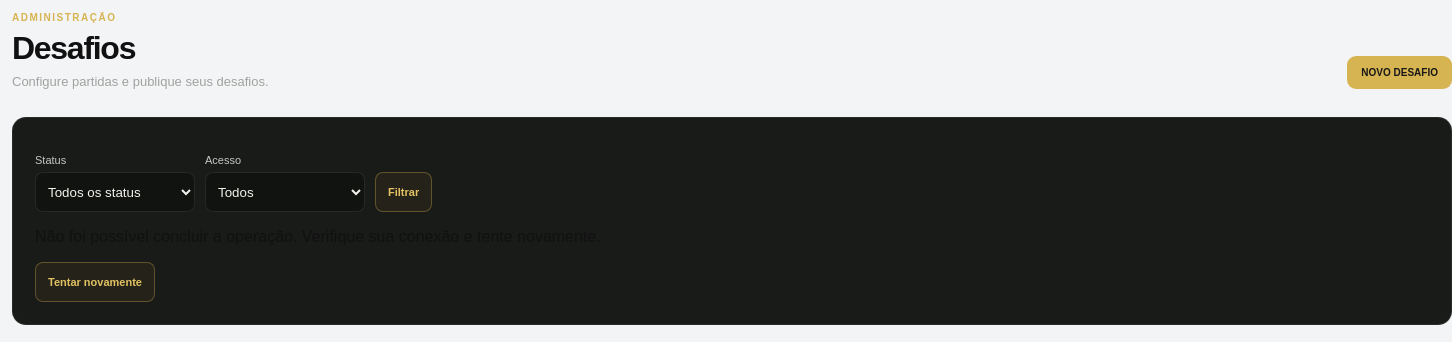
mostra vazio e permite tentar novamente após erro
This screenshot has width=1452, height=342.
expect the message is shown: met, box [35, 228, 601, 302]
Click the button "Tentar novamente" at coordinates (95, 282), box [35, 262, 155, 302]
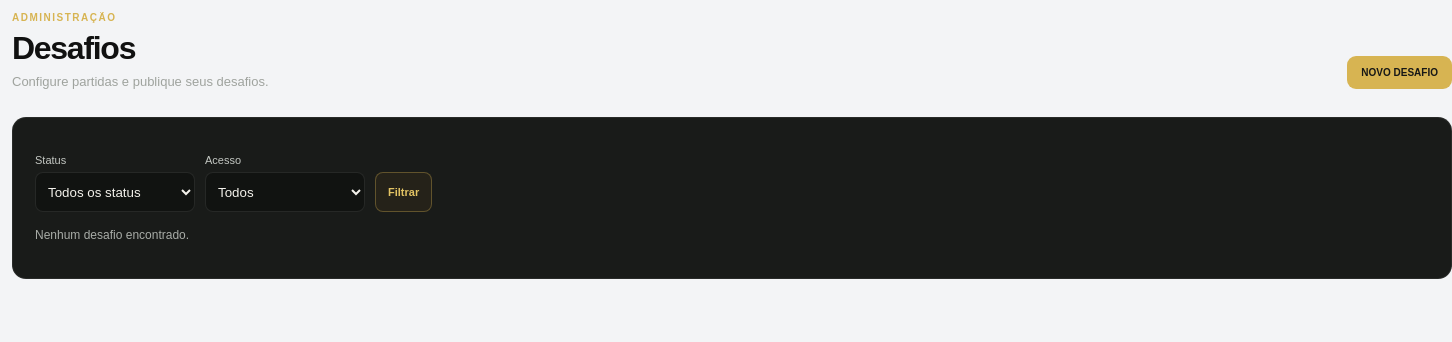
expect the text "Nenhum desafio encontrado." is shown: met, box [35, 228, 189, 242]
